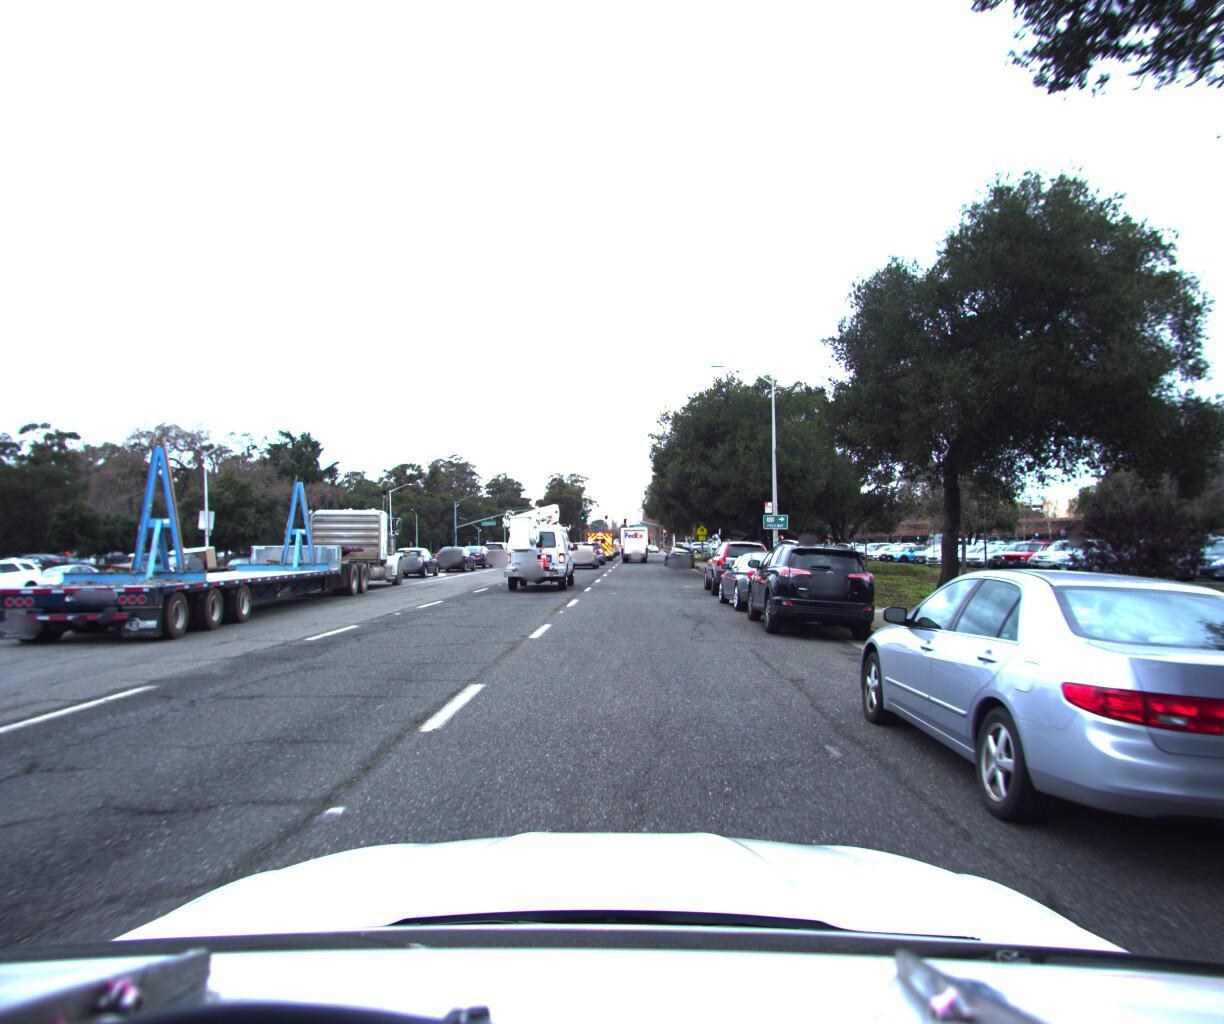car: (835, 548, 1224, 939), (745, 529, 882, 639), (716, 541, 824, 615), (699, 530, 775, 595), (140, 542, 231, 585), (14, 561, 116, 598), (0, 556, 55, 610), (389, 541, 442, 574), (217, 552, 273, 578), (433, 541, 478, 568), (565, 538, 600, 565), (456, 541, 494, 565), (662, 538, 694, 563), (577, 534, 606, 560), (483, 540, 514, 560)
emergency_vehicle: (584, 522, 615, 557)
other_vehicle: (498, 494, 577, 589)
truck: (0, 426, 411, 665), (617, 520, 648, 558)
